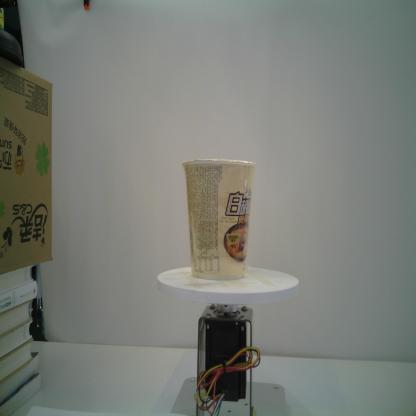Instant Noodles: (181, 157, 258, 283)
